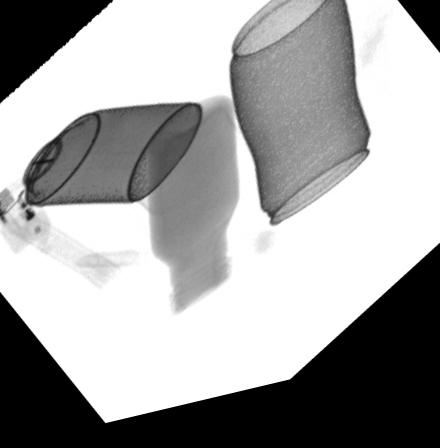Lighter: (0, 177, 52, 257)
Sprayer: (0, 112, 204, 209)
